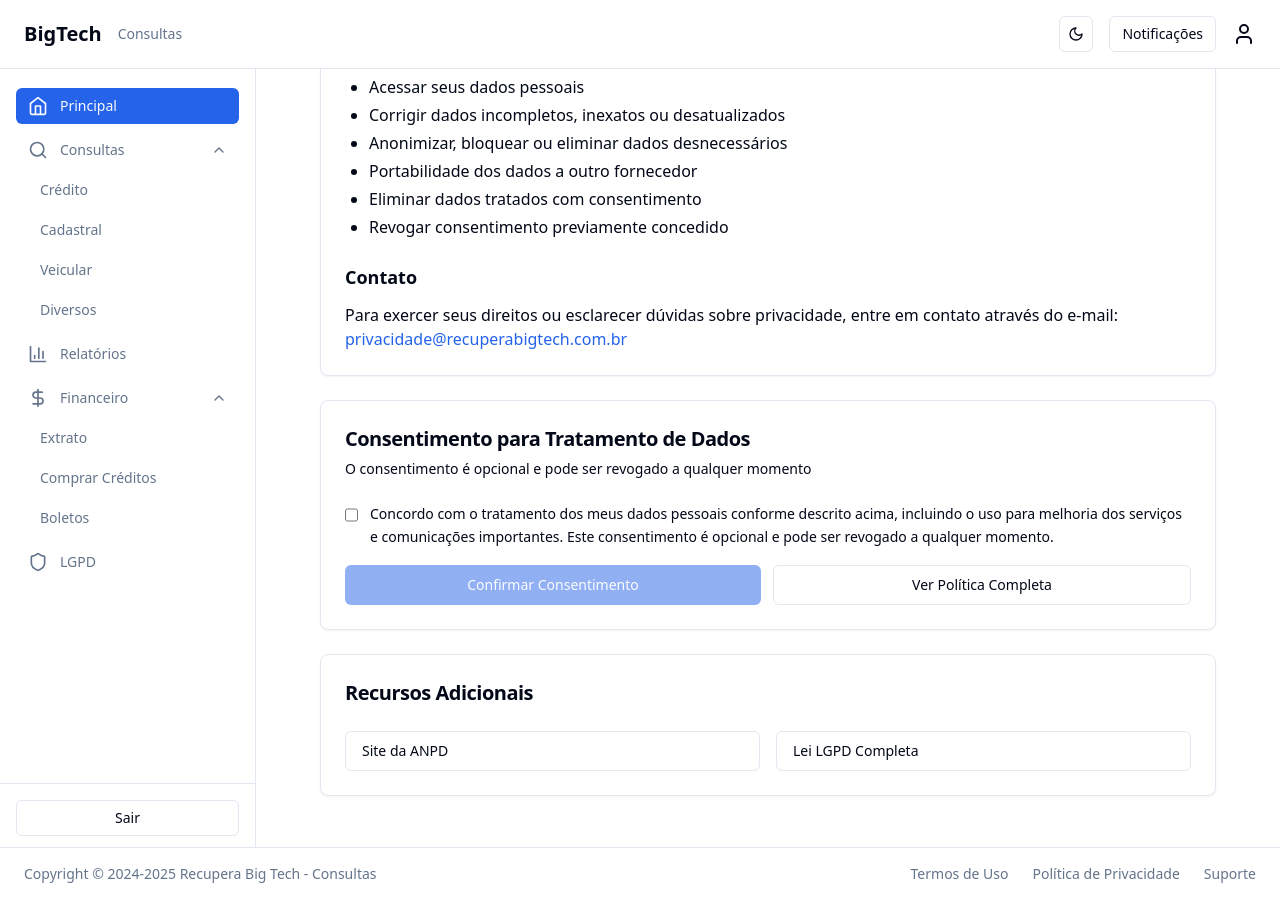
Scenario: Página LGPD › Consentimento › deve habilitar botão de confirmação apenas com consentimento
The image size is (1280, 900).
(page scrolled)
Check: the button "Confirmar Consentimento" is disabled, box [345,564,761,604]
Click the checkbox labelled "Concordo com o tratamento". click: (352, 515)
box: [345,507,358,523]
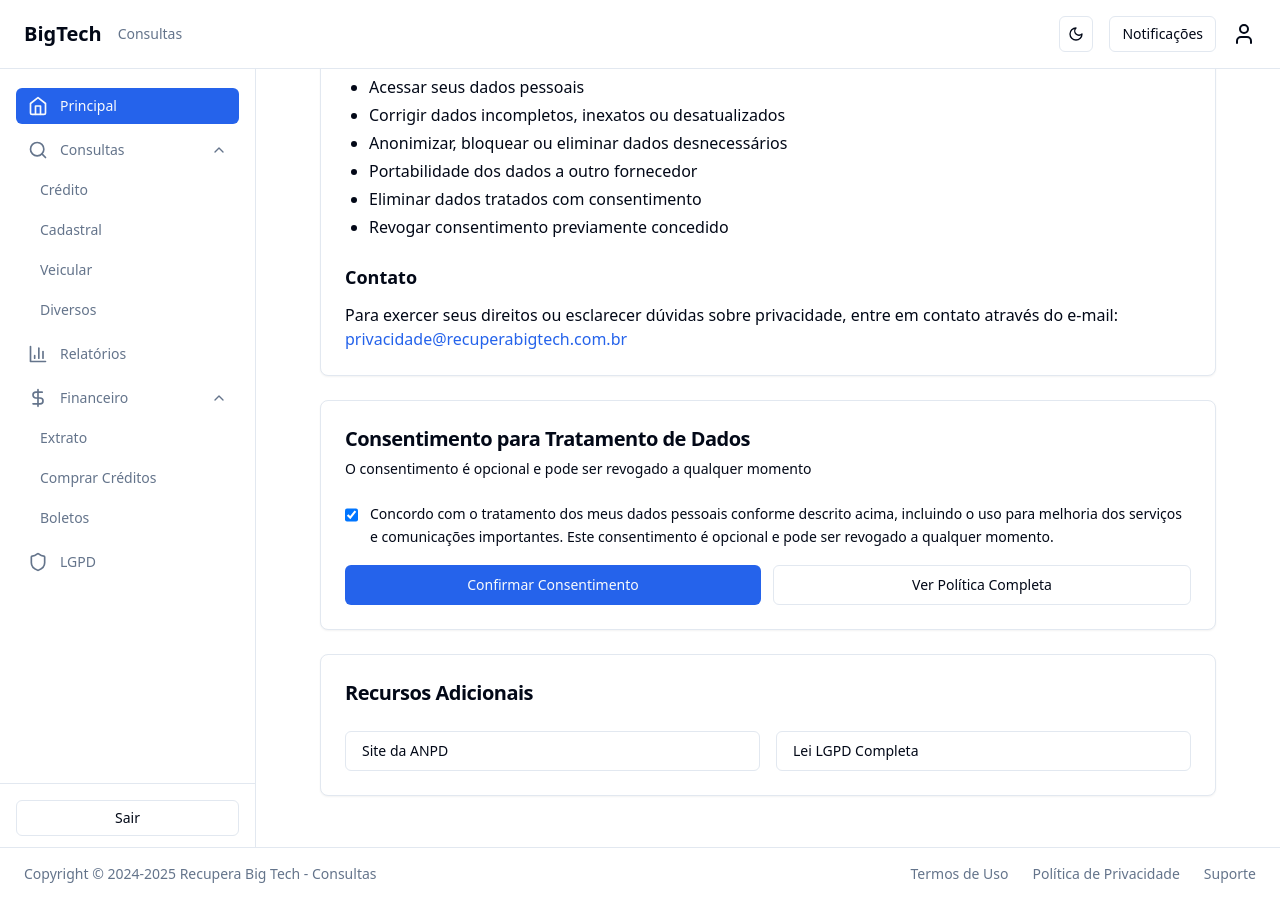
Check: the button "Confirmar Consentimento" is enabled, box [345,564,761,604]
